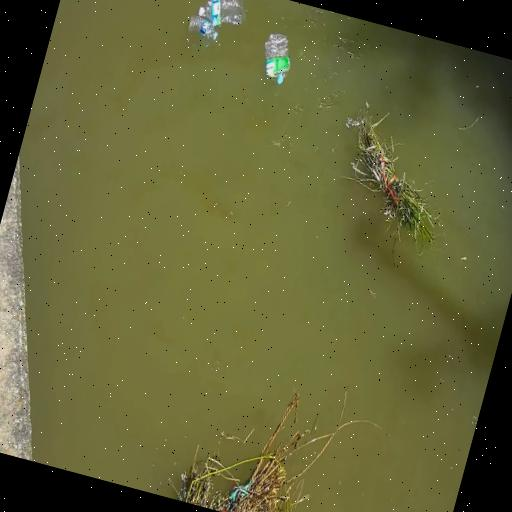plastic: (197, 0, 244, 27), (264, 34, 289, 83), (187, 15, 217, 40)
twig: (176, 392, 359, 512), (346, 104, 439, 244)
